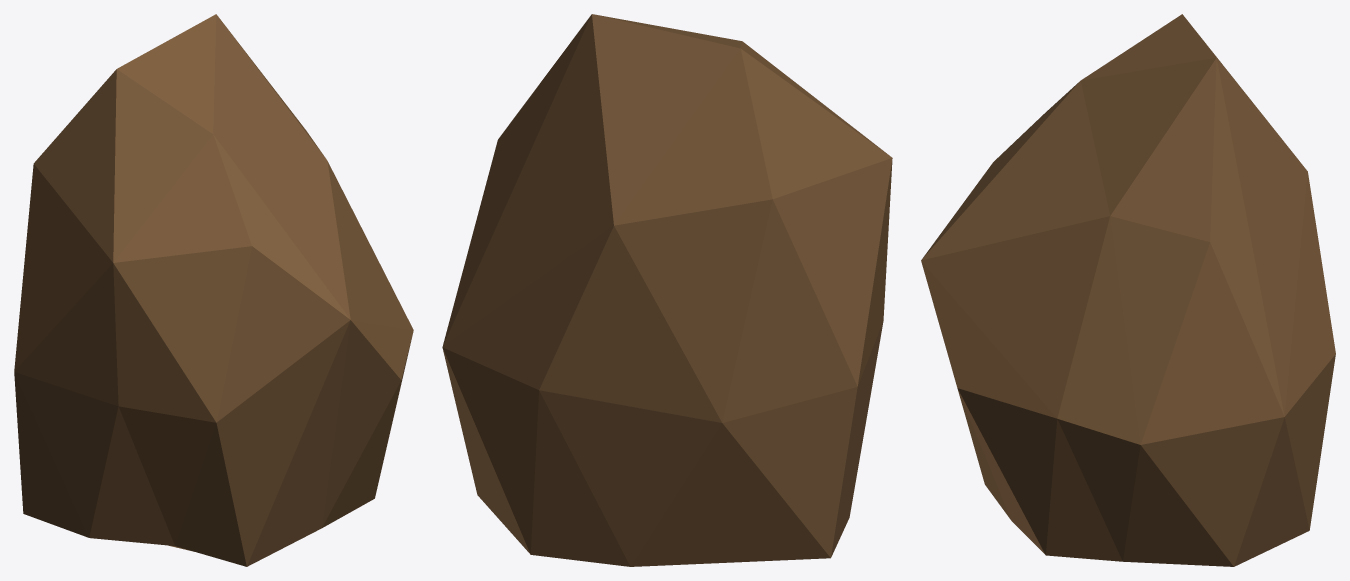
Rendered from cave_rock1.dae.
3 renders of one model, left to right at view 1: azimuth 30°, elevation 25°; view 2: azimuth 150°, elevation 25°; view 3: azimuth 270°, elevation 25°, orthographic. The views are drawn at different scales.
Parts seen in each view (by area): view 1: Icosphere; view 2: Icosphere; view 3: Icosphere.
Boxes of the visible parts, <box> form: Icosphere: <box>14,14,413,566</box>; Icosphere: <box>442,14,892,566</box>; Icosphere: <box>921,14,1335,566</box>.
Size of the model in its own units: 1.49 by 1.42 by 1.84.
